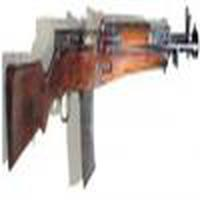gun: (4, 22, 200, 148)
